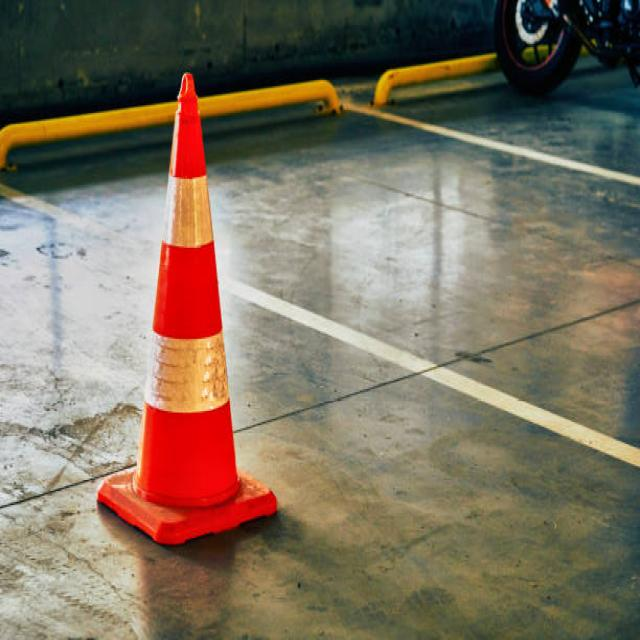Traffic Cone: (93, 44, 288, 566)
